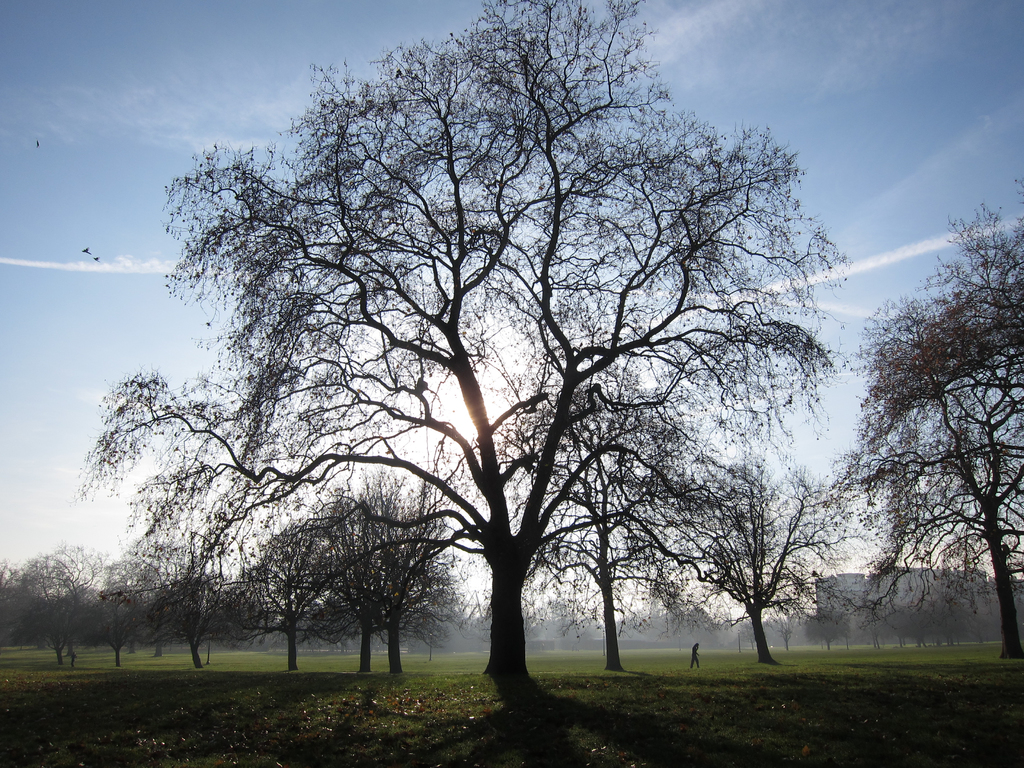Tree: (0, 424, 849, 679), (833, 167, 1023, 672)
